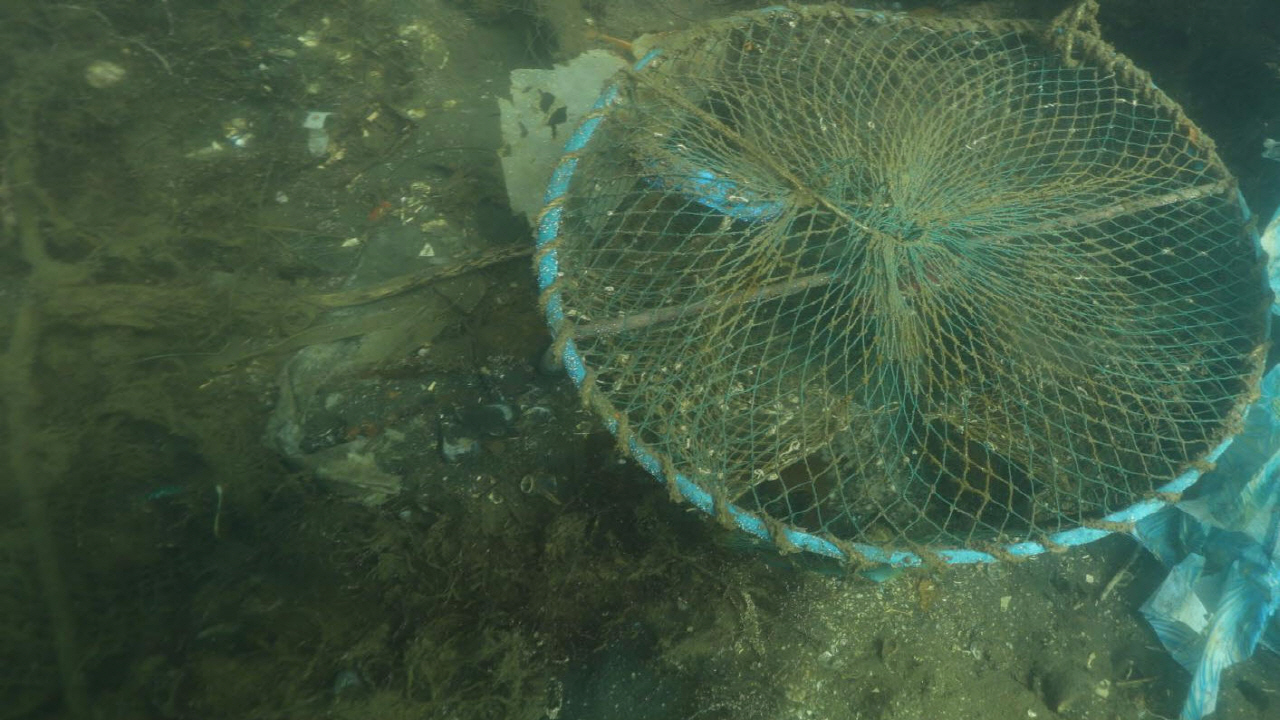circular fish trap: (535, 6, 1272, 565)
